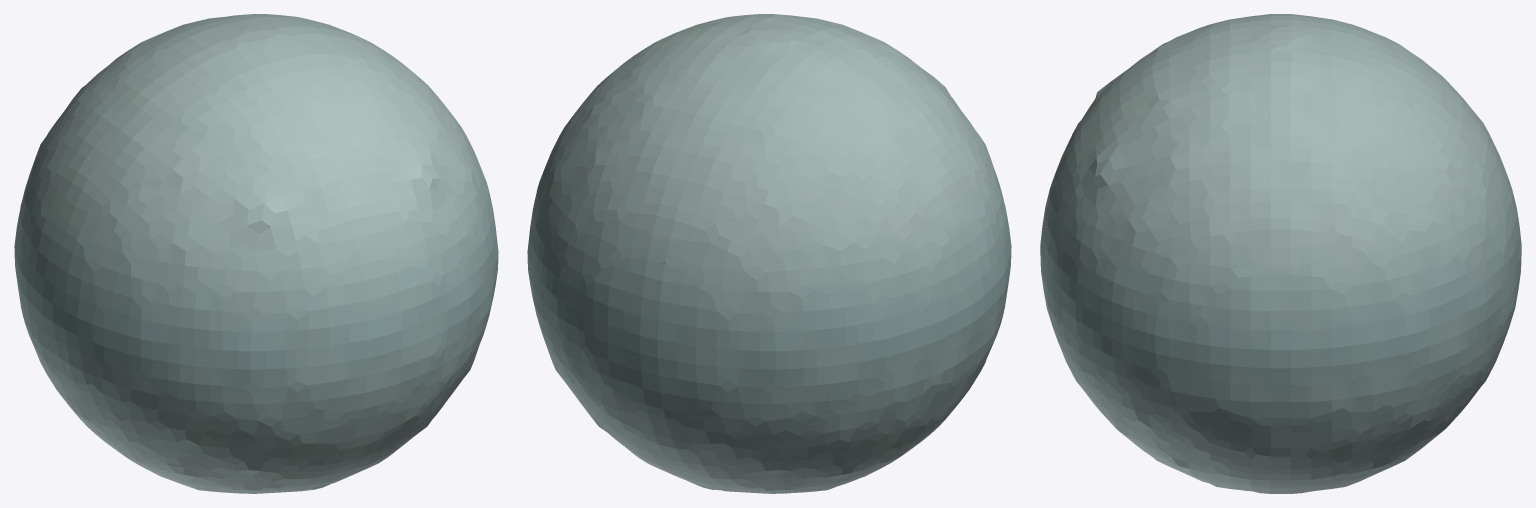
File: slimeLord.glb
The picture shows the model from 3 angles, left to right: view 1: azimuth 30°, elevation 25°; view 2: azimuth 150°, elevation 25°; view 3: azimuth 270°, elevation 25°; orthographic projection.
Visible parts, largest first — view 1: geometry_0; view 2: geometry_0; view 3: geometry_0.
Boxes of the visible parts, bbox=[...] form: geometry_0: bbox=[14, 14, 498, 493]; geometry_0: bbox=[527, 14, 1011, 493]; geometry_0: bbox=[1040, 14, 1521, 493].
Bounding box in the file's own units: 1.02 × 0.9937 × 1.02.
Materials: 1 (1 with a texture image).
